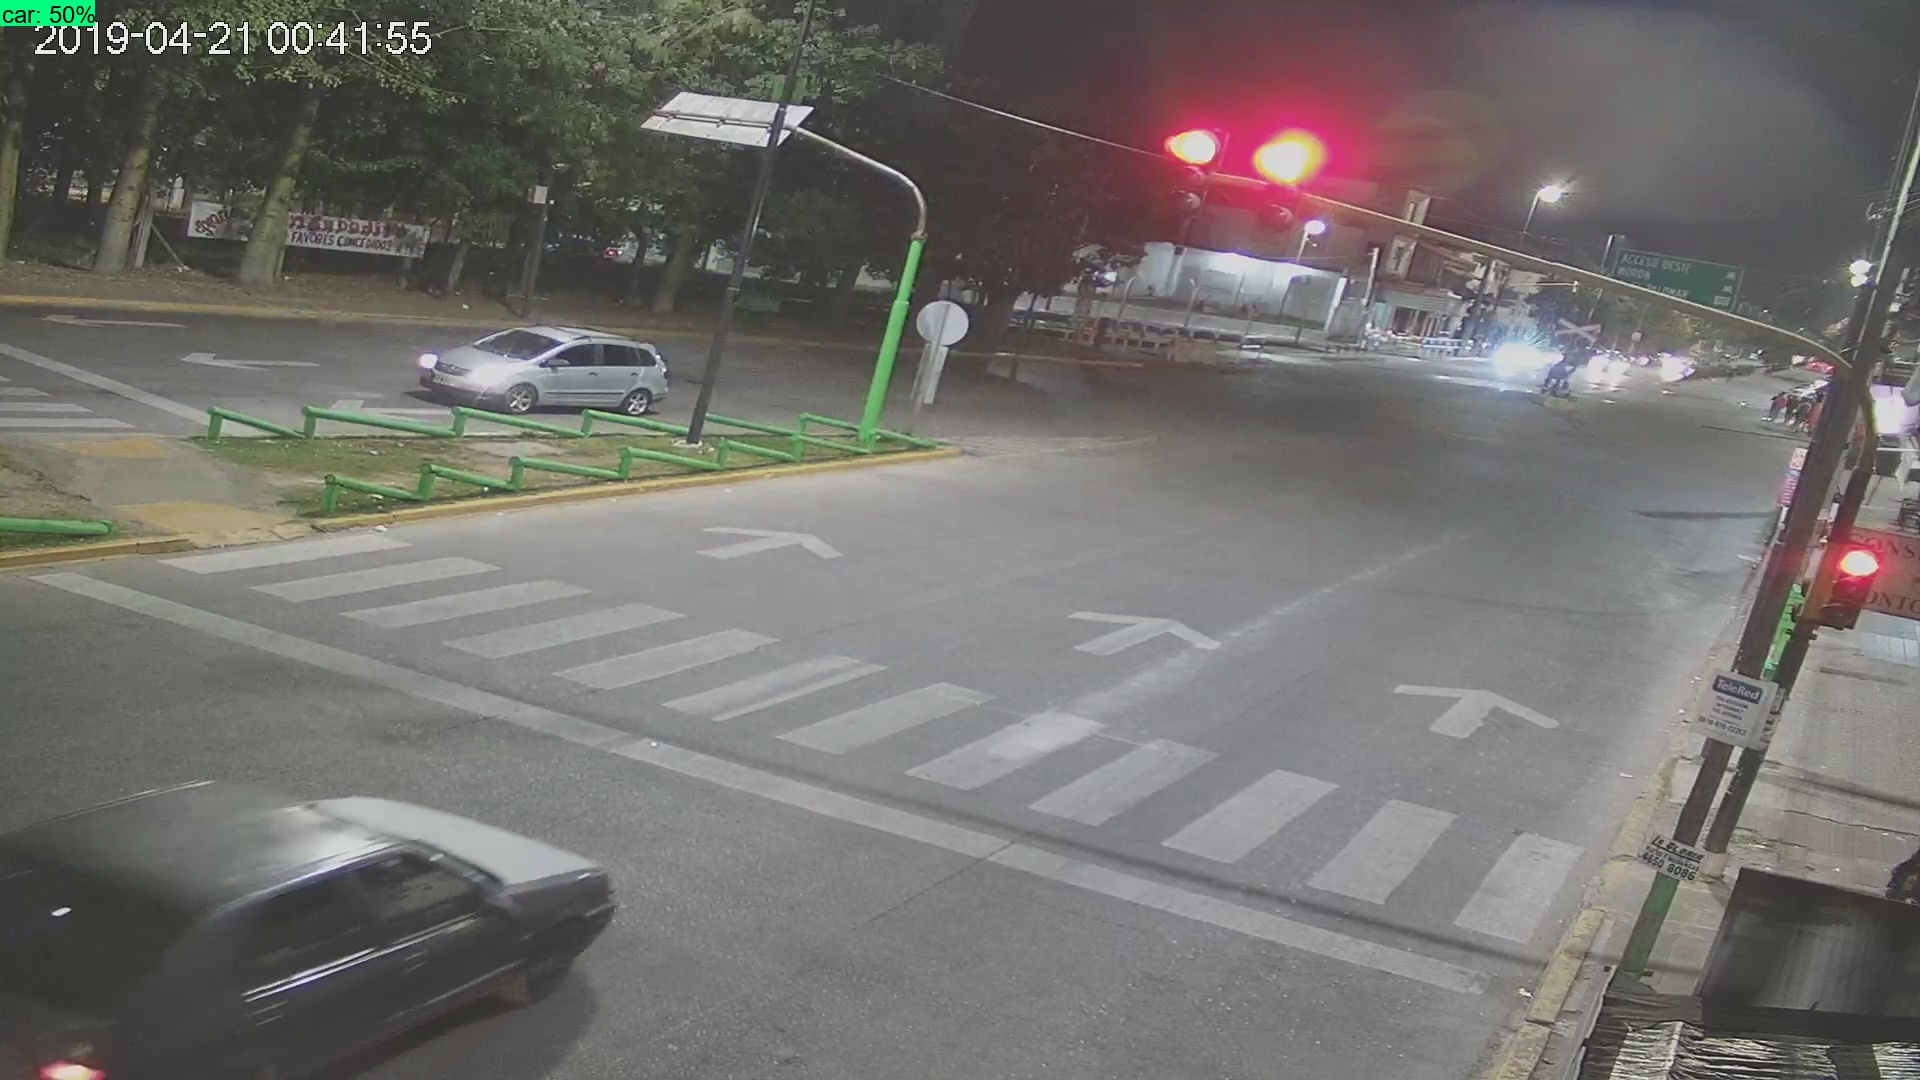car: (7, 775, 625, 1080), (415, 318, 678, 431)
